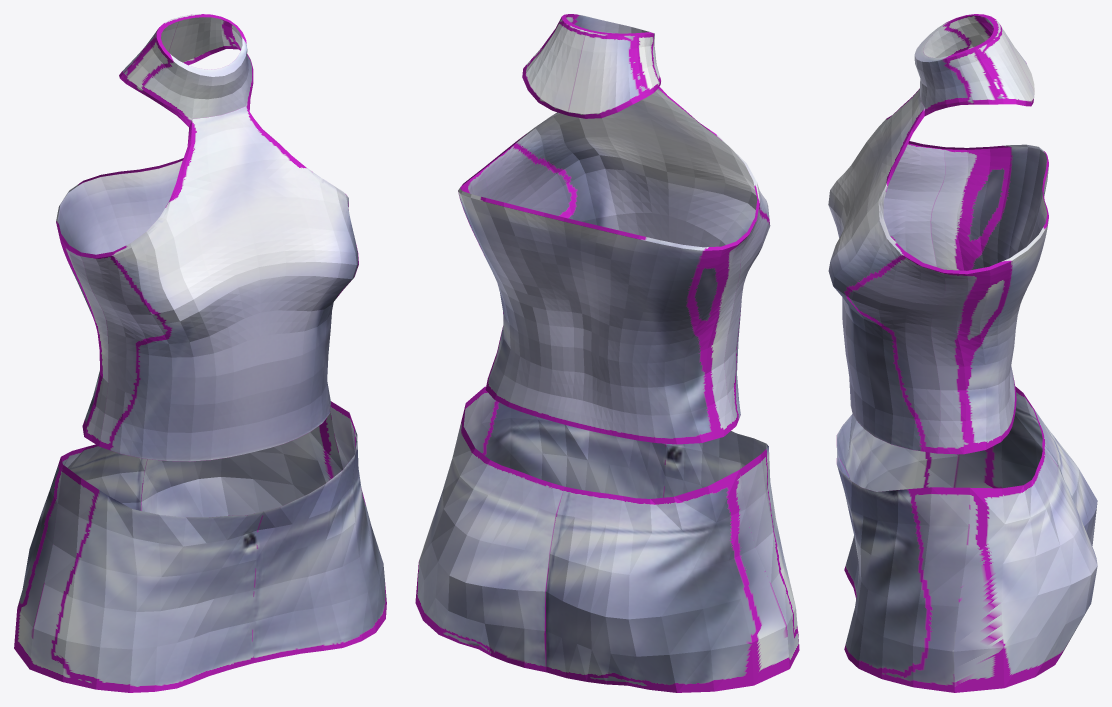
3 views of the same model, side by side, from view 1: azimuth 30°, elevation 25°; view 2: azimuth 150°, elevation 25°; view 3: azimuth 270°, elevation 25° (orthographic). The views are drawn at different scales.
Size of the model in its own units: 0.5252 by 0.8553 by 0.359.
Materials: 1 (1 with a texture image).
